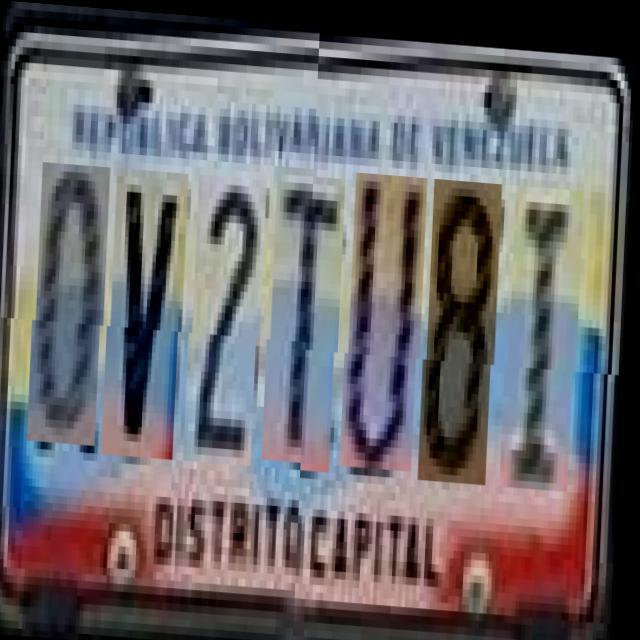2: (190, 179, 268, 469)
8: (426, 172, 504, 476)
I: (508, 176, 586, 482)
O: (34, 169, 112, 452)
T: (268, 169, 346, 467)
U: (348, 166, 428, 464)
V: (109, 173, 190, 464)
